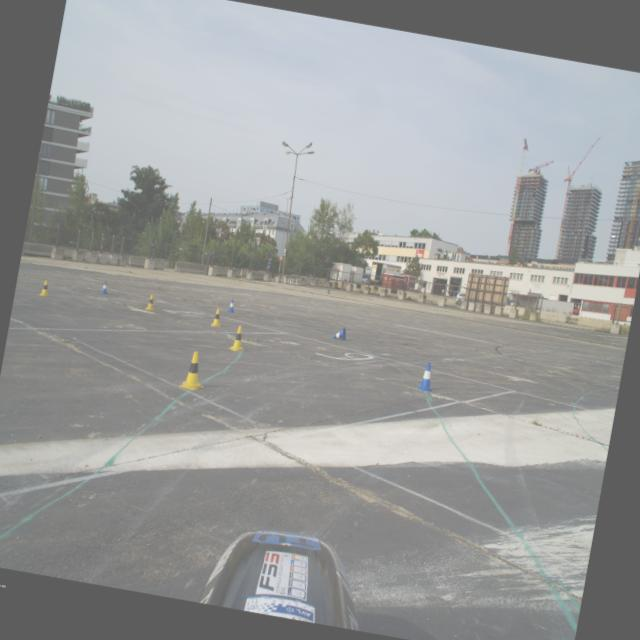blue_cone: (416, 360, 438, 392), (332, 326, 348, 340), (100, 280, 110, 294), (227, 298, 236, 313)
yellow_cone: (178, 349, 210, 392), (228, 324, 248, 352), (210, 308, 223, 328), (38, 278, 52, 296), (145, 293, 156, 311)
